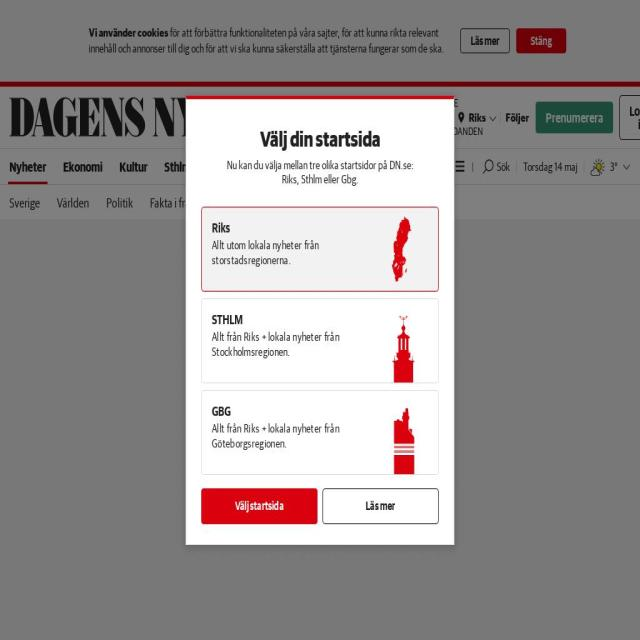button: (201, 298, 437, 386), (201, 208, 438, 290), (202, 397, 438, 477), (322, 489, 439, 525), (202, 489, 317, 524), (534, 100, 614, 136), (520, 152, 585, 186), (56, 153, 110, 180), (3, 153, 51, 183), (460, 26, 511, 54), (517, 26, 567, 54), (479, 150, 516, 187), (588, 156, 636, 183), (54, 189, 96, 217), (616, 91, 640, 139), (5, 189, 47, 216), (100, 189, 138, 217), (144, 190, 184, 215), (456, 104, 503, 124), (115, 154, 151, 178), (160, 154, 187, 176)
heading: (8, 94, 185, 142), (258, 128, 383, 152), (210, 310, 247, 326), (208, 401, 237, 421), (210, 215, 234, 235)
image: (388, 308, 418, 382), (388, 406, 420, 474), (388, 215, 411, 283), (590, 160, 606, 182), (481, 158, 496, 177), (454, 158, 467, 175), (457, 108, 465, 124)
label: (497, 160, 512, 172)
text: (85, 24, 448, 60), (224, 161, 416, 189), (210, 422, 344, 451), (210, 329, 342, 358), (212, 239, 320, 266), (521, 158, 582, 178), (61, 158, 104, 176), (232, 500, 286, 513), (8, 193, 44, 212), (58, 193, 92, 212), (360, 497, 400, 513), (146, 196, 184, 212), (118, 158, 148, 175), (452, 124, 488, 138), (103, 198, 136, 212), (8, 162, 46, 172), (506, 111, 530, 126), (164, 161, 184, 173)
